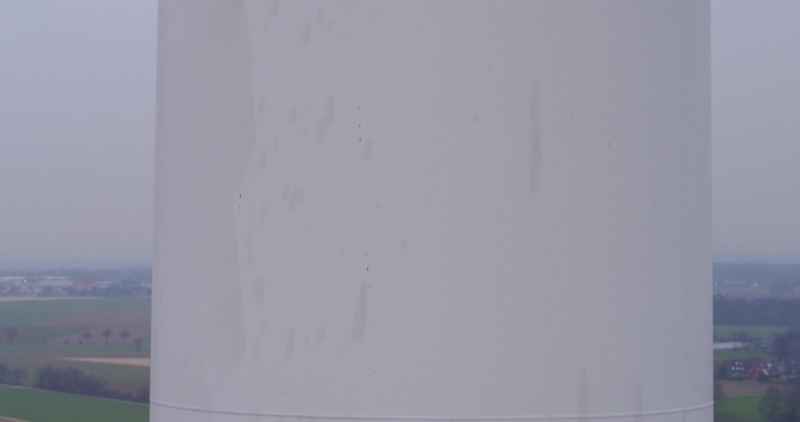weldseam: (145, 392, 717, 422)
